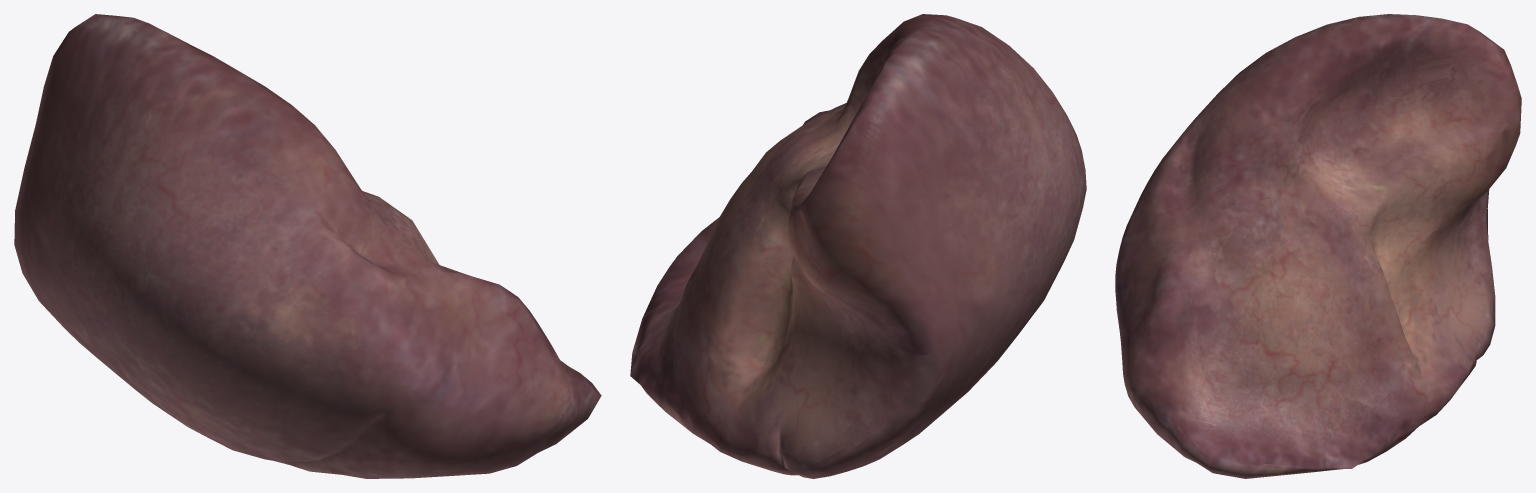
The model's file is male_liver-lo.obj.
3 renders of one model, left to right at view 1: azimuth 30°, elevation 25°; view 2: azimuth 150°, elevation 25°; view 3: azimuth 270°, elevation 25°, orthographic. The views are drawn at different scales.
Parts seen in each view (by area): view 1: Object__0; view 2: Object__0; view 3: Object__0.
Part boxes in pixels (x1,y1,x2,y2): Object__0: (14, 14, 601, 478); Object__0: (630, 14, 1086, 478); Object__0: (1115, 14, 1521, 478).
Bounding box in the file's own units: 0.1748 × 0.1609 × 0.1701.
1 material, 1 textured.
